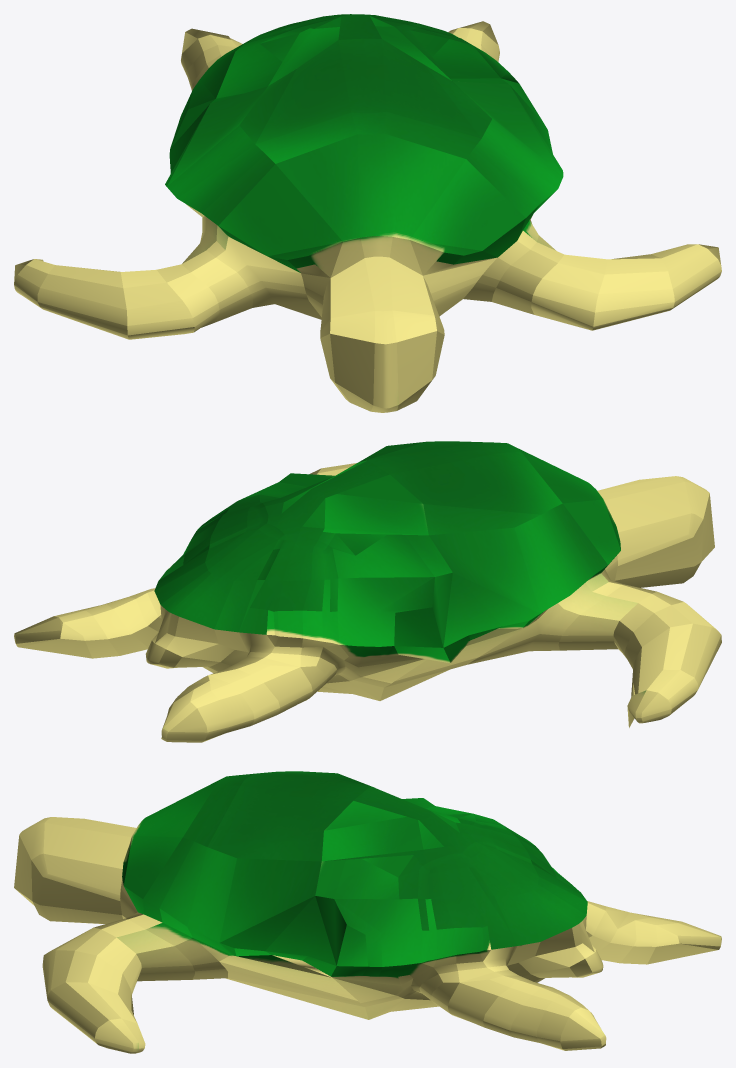
Rendered from TurtlesHatchingMiddle.fbx.
3 views of the same model, one above another, from view 1: azimuth 30°, elevation 25°; view 2: azimuth 150°, elevation 25°; view 3: azimuth 270°, elevation 25° (orthographic). The views are drawn at different scales.
Visible parts, largest first — view 1: TurtleHatchMiddle; view 2: TurtleHatchMiddle; view 3: TurtleHatchMiddle.
Boxes of the visible parts, box(x1,y1,x2,y2) form: TurtleHatchMiddle: box(14, 14, 721, 412); TurtleHatchMiddle: box(14, 441, 721, 742); TurtleHatchMiddle: box(14, 771, 721, 1053).
Size of the model in its own units: 11.32 by 4.28 by 13.04.
